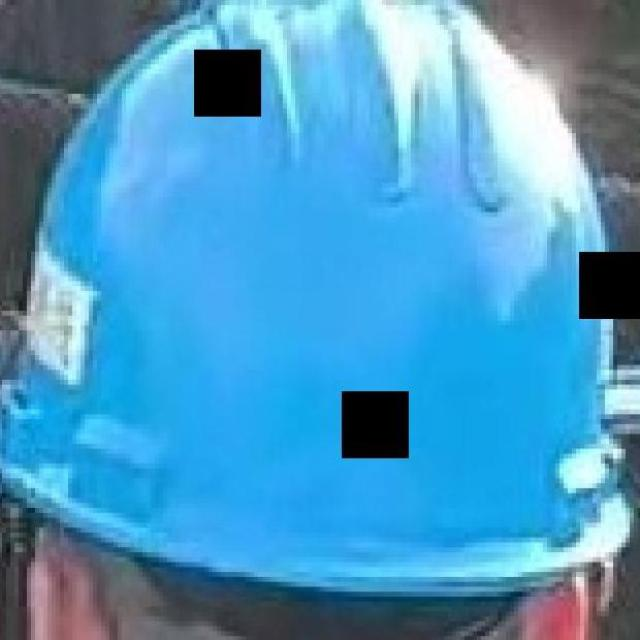blue helmet: (25, 7, 630, 600)
